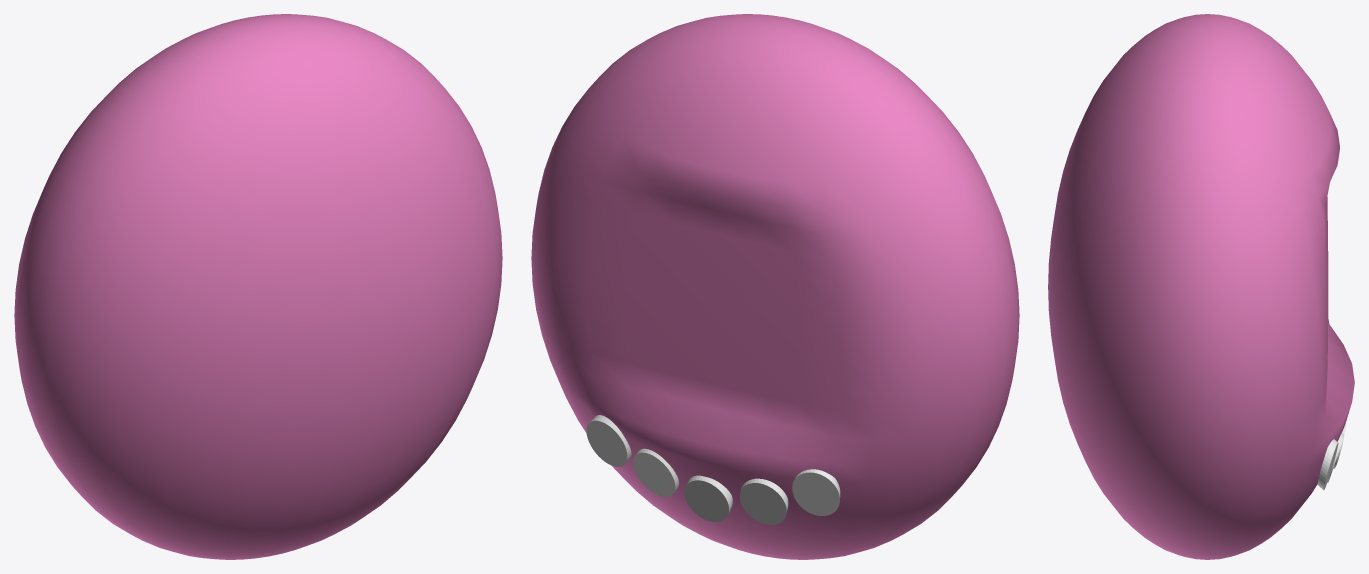
The model's file is nekotchi3D.glb.
3 views of the same model, side by side, from view 1: azimuth 30°, elevation 25°; view 2: azimuth 150°, elevation 25°; view 3: azimuth 270°, elevation 25° (orthographic). The views are drawn at different scales.
Visible parts, largest first — view 1: Egg; view 2: Egg, Cylinder, Cylinder.004, Cylinder.002, Cylinder.003, Cylinder.001; view 3: Egg, Cylinder.003.
Part boxes in pixels (left/top/right/bottom): Egg: left=14, top=14, right=502, bottom=559; Egg: left=531, top=14, right=1019, bottom=559; Cylinder: left=792, top=469, right=840, bottom=515; Cylinder.004: left=740, top=478, right=788, bottom=524; Cylinder.002: left=684, top=475, right=732, bottom=522; Cylinder.003: left=586, top=415, right=631, bottom=466; Cylinder.001: left=633, top=448, right=679, bottom=497; Egg: left=1048, top=14, right=1354, bottom=559; Cylinder.003: left=1317, top=439, right=1338, bottom=490.
Bounding box in the file's own units: 2.24 × 2.42 × 1.34.
